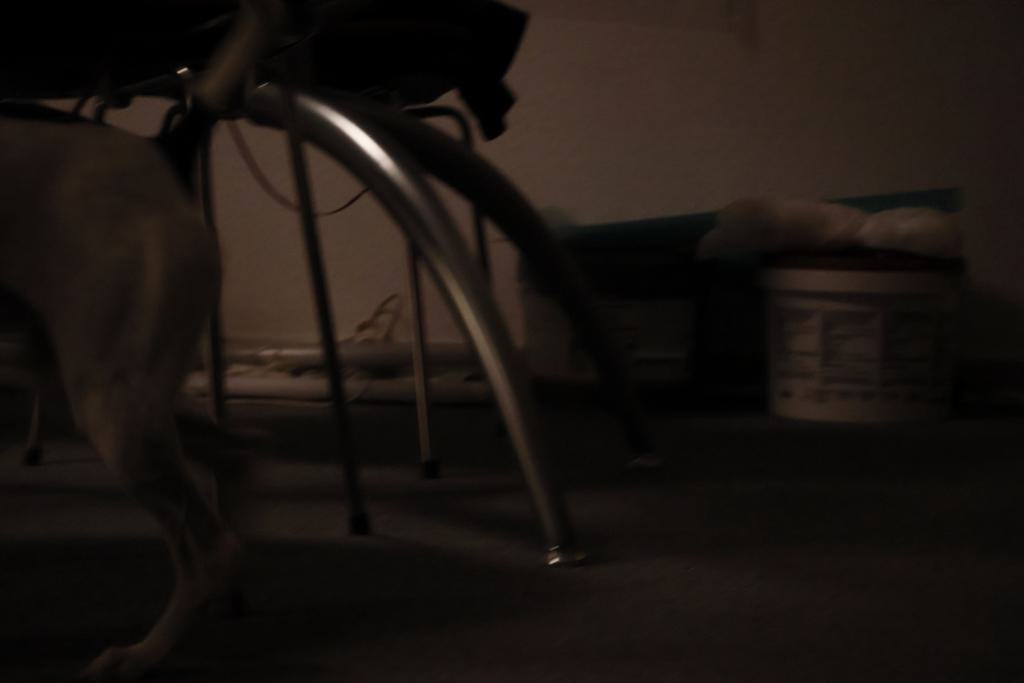Dog: (0, 0, 283, 683)
